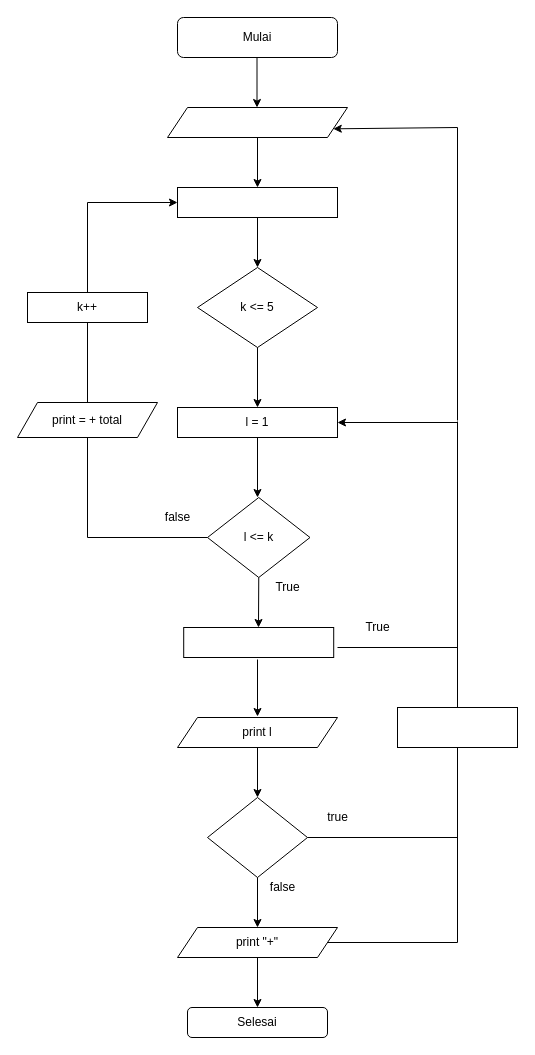
Image size: 535x1055. Some labels were removed from this diagram. The shapes that lost their labels are listed below. From the top down, each one's centre as x and y in pixels, then its label:
At (x=257, y=122): "total = 0".
At (x=257, y=202): "k = 1".
At (x=258, y=642): "total = total + 1".
At (x=457, y=727): "l++".
At (x=257, y=837): "if (l == k) break".
